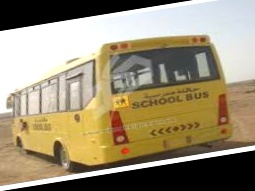bus: (0, 25, 238, 183)
